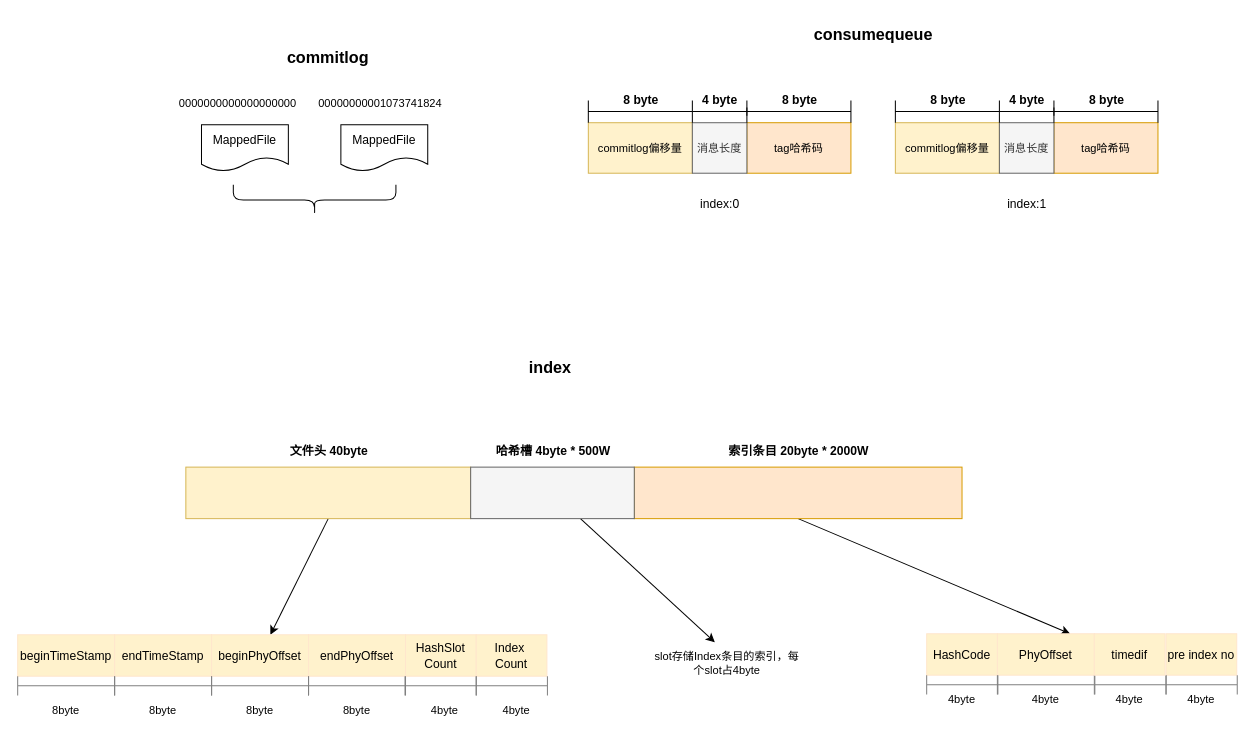
This 1255x742 diagram has some shape labels left out. The centre of each missing label's shape, as x and y in pixels:
Header: the point at 328,492
index Linked List: the point at 797,492
MappedFileQueue: the point at 314,199
Slot Table: the point at 552,492
